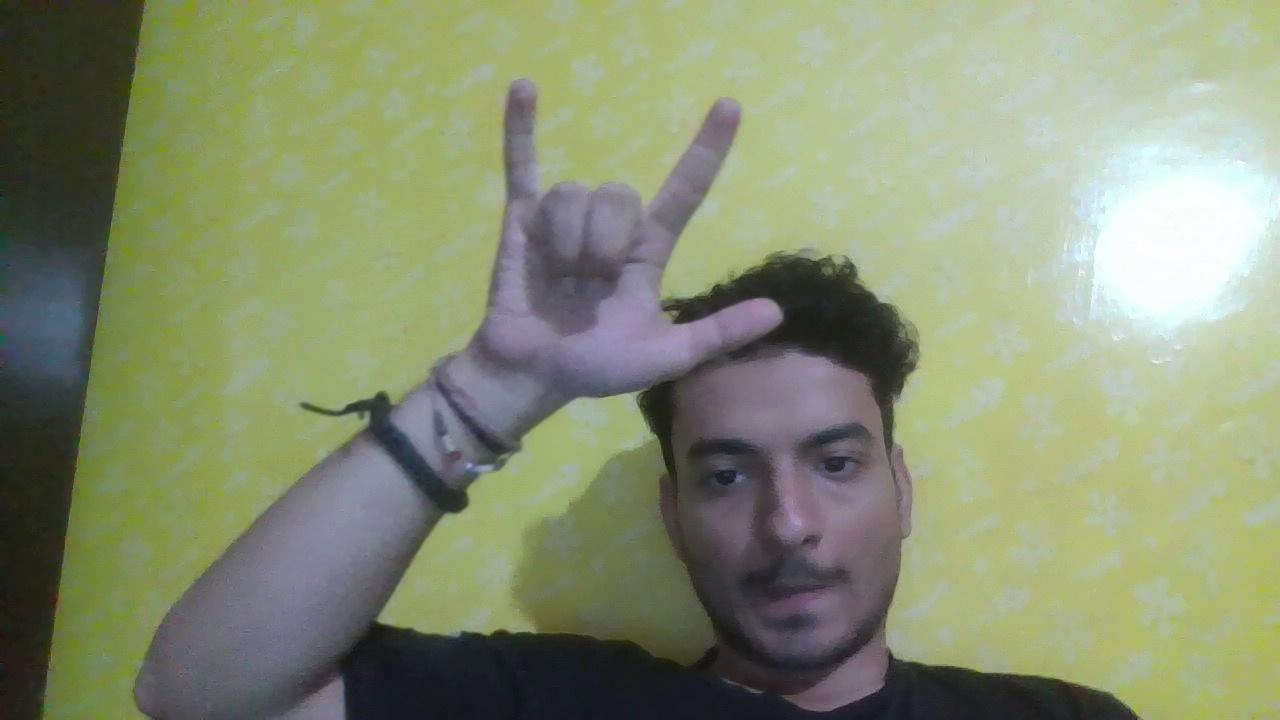Loveyou: (443, 33, 816, 452)
